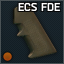AR-15 DI ECS pistol grip Flat Dark Earth: (0, 0, 64, 64)
